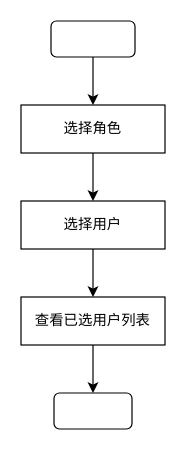
This 186x450 diagram has some shape labels left out. Here are the shapes that lost their labels. From the top down, the centre of each, then its label:
At (92,38): "开始".
At (92,410): "结束".
